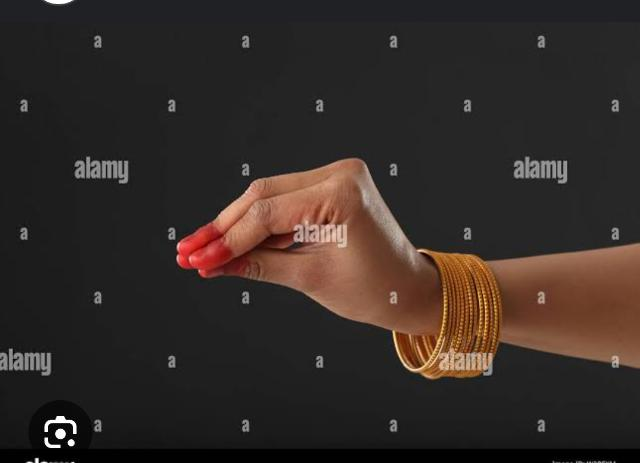mukul: (177, 158, 504, 378)
